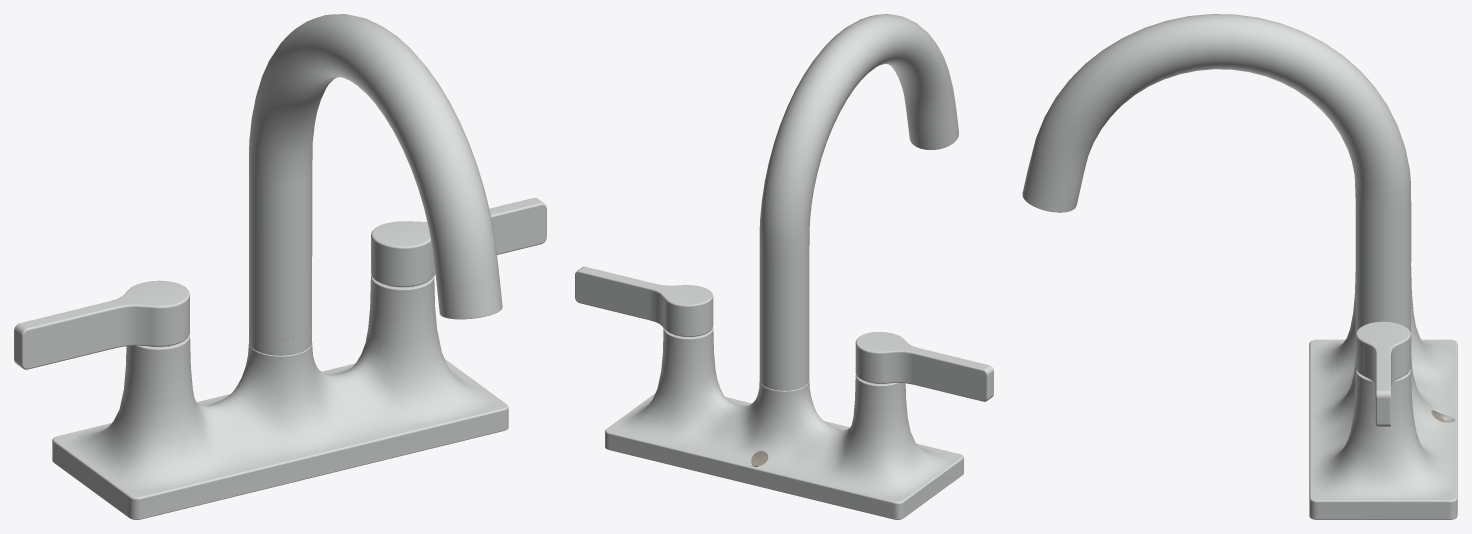
File: faucet_B0B47VQSSM_kohler_polishedChrome.glb
3 views of the same model, side by side, from view 1: azimuth 30°, elevation 25°; view 2: azimuth 150°, elevation 25°; view 3: azimuth 270°, elevation 25° (orthographic). The views are drawn at different scales.
Parts seen in each view (by area): view 1: 28124-4K-KO_BN_ME_VibrantBrushedNickel; view 2: 28124-4K-KO_BN_ME_VibrantBrushedNickel; view 3: 28124-4K-KO_BN_ME_VibrantBrushedNickel.
Part boxes in pixels (bbox=[...]): 28124-4K-KO_BN_ME_VibrantBrushedNickel: bbox=[14, 14, 546, 519]; 28124-4K-KO_BN_ME_VibrantBrushedNickel: bbox=[575, 14, 993, 519]; 28124-4K-KO_BN_ME_VibrantBrushedNickel: bbox=[1022, 14, 1457, 519].
Size of the model in its own units: 0.2186 by 0.1921 by 0.179.
4 materials, 1 textured.
